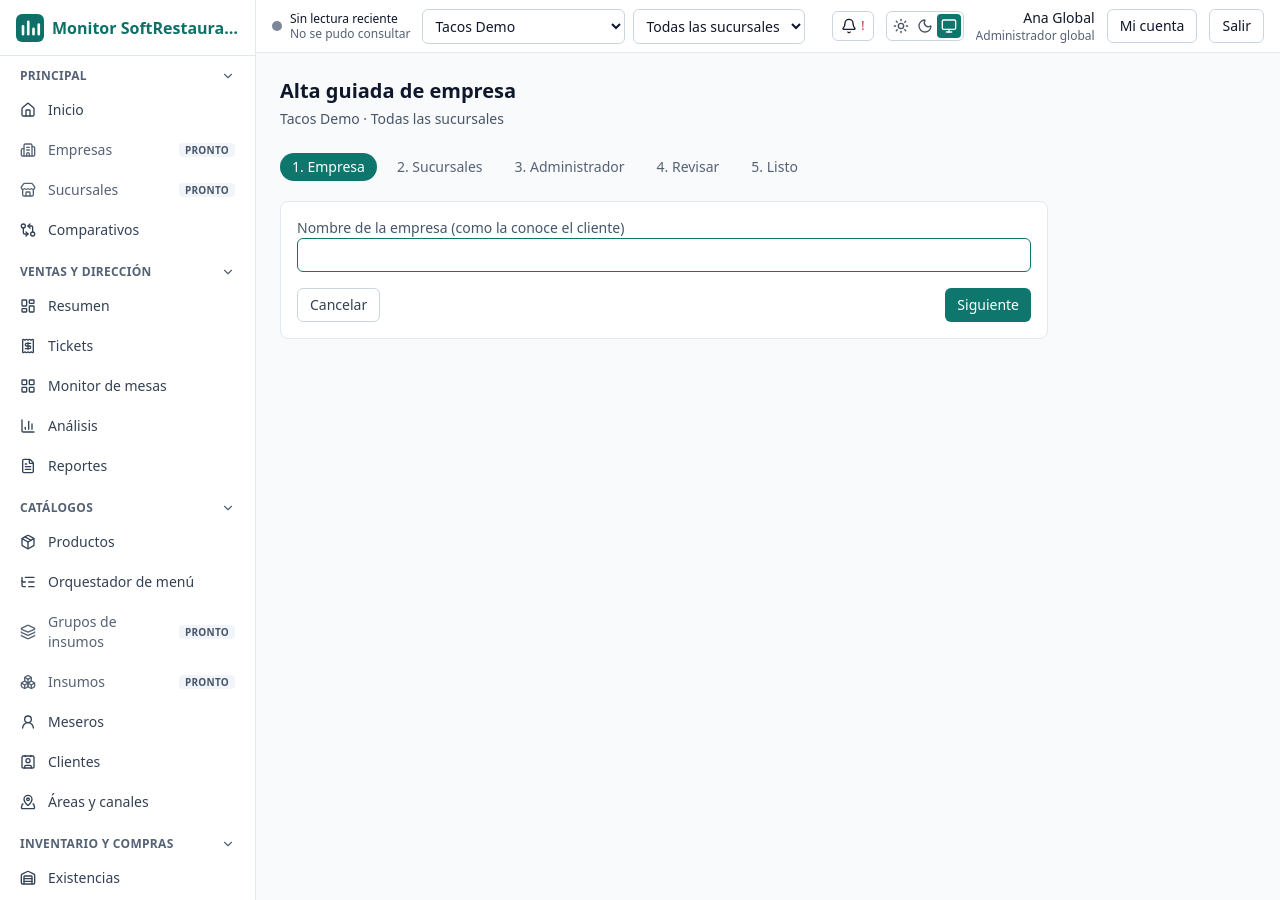
Alta guiada de empresa (F2-147) › un error del api (email duplicado) se muestra y deja volver a intentar
Type "Grupo" into the field labelled "Nombre de la empresa (como la conoce el cliente)" at (664, 255), box [297, 238, 1031, 272]
Click the button "Siguiente" at (988, 305), box [945, 288, 1031, 322]
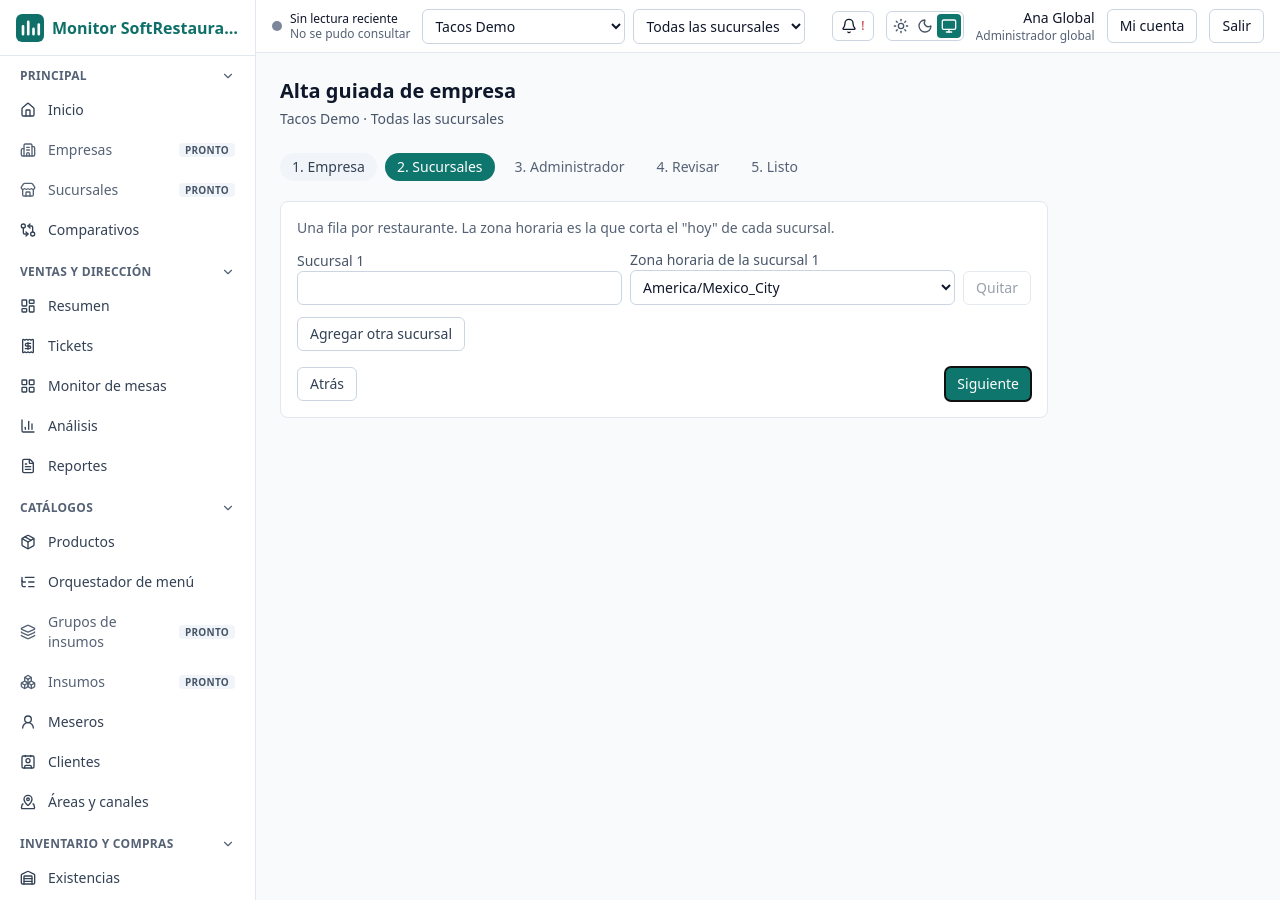
Type "Centro" into the field labelled "Sucursal 1" at (460, 288), box [297, 271, 622, 305]
Click the button "Siguiente" at (988, 384), box [945, 367, 1031, 401]
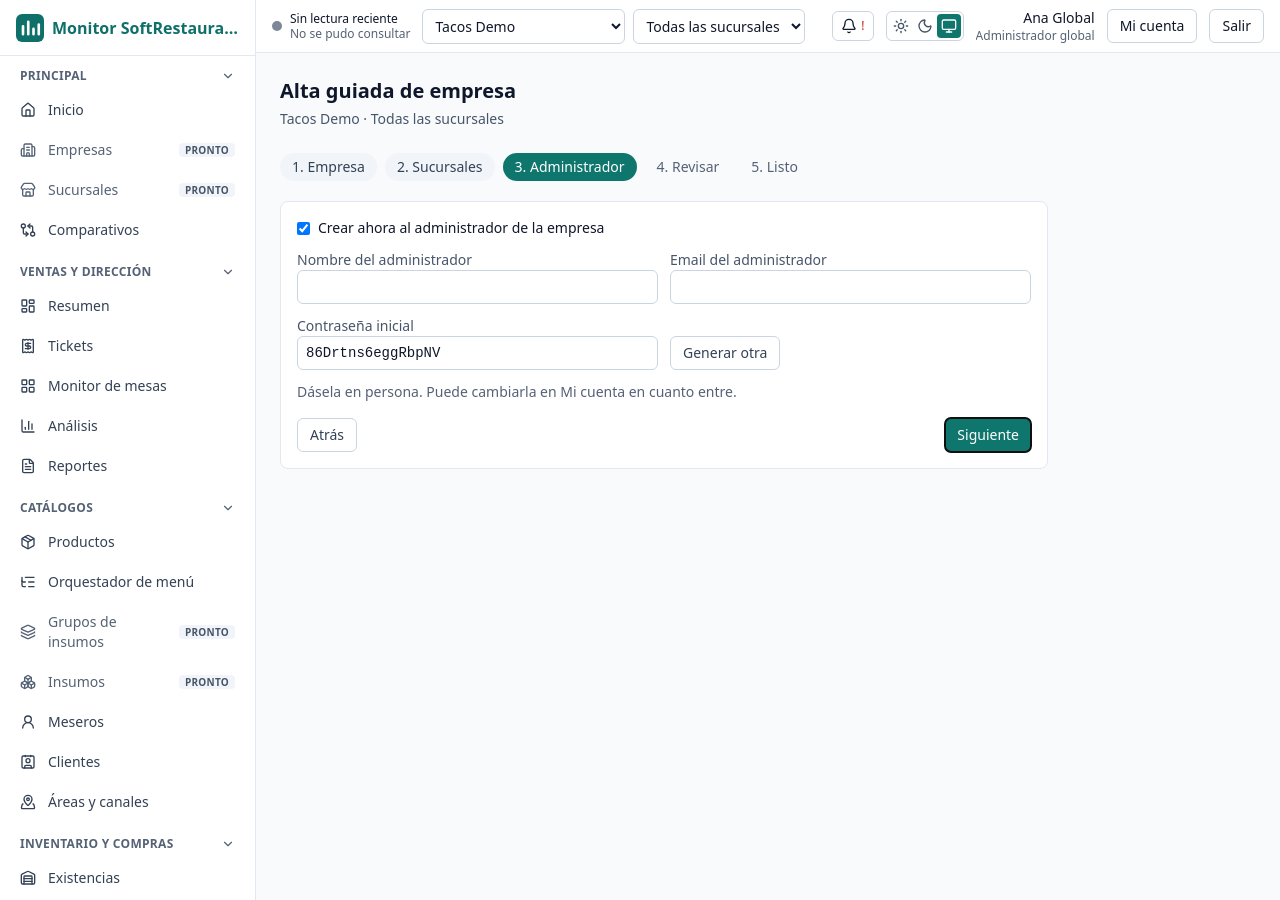
Type "Laura" into the field labelled "Nombre del administrador" at (478, 287), box [297, 270, 658, 304]
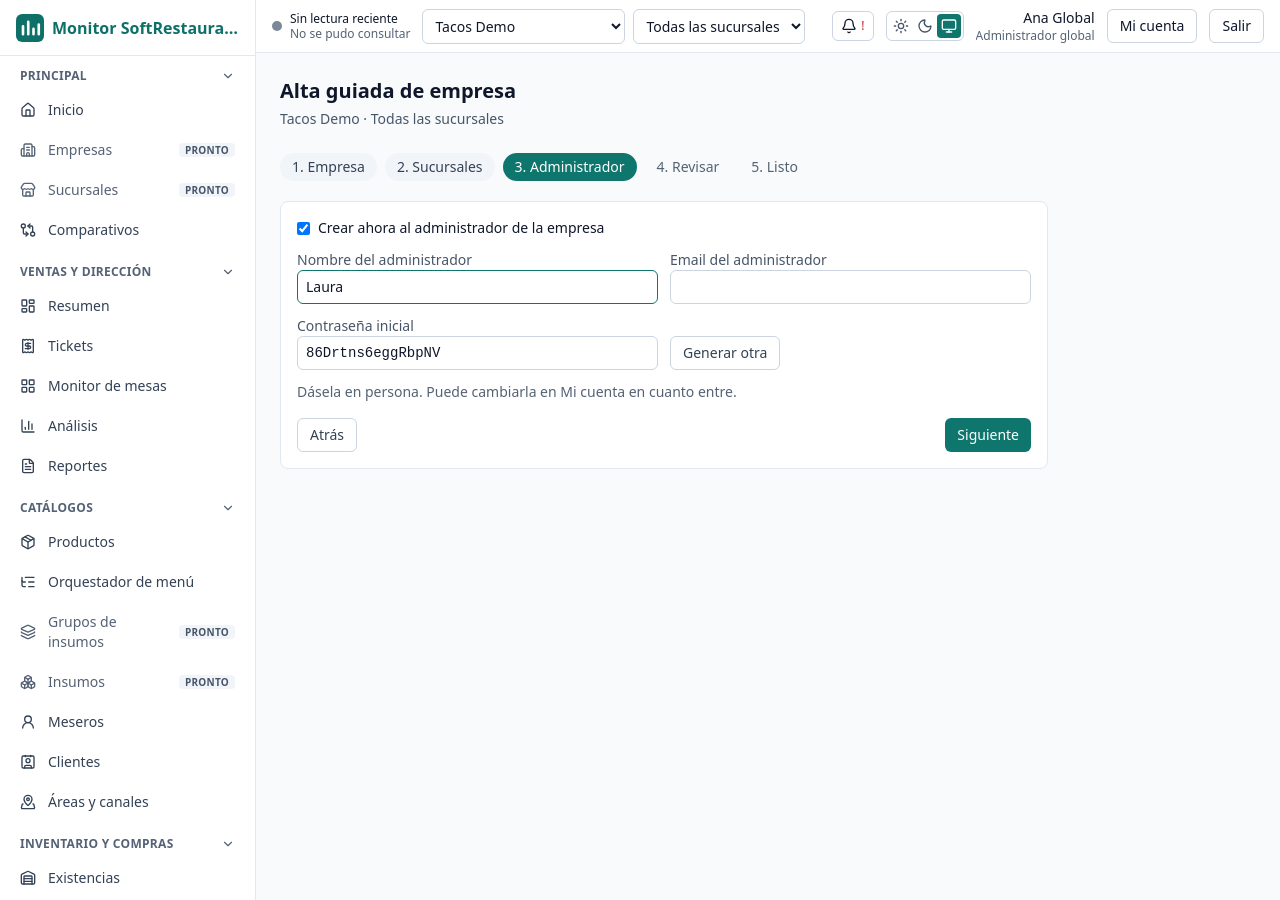
Type "repetido@x.test" into the field labelled "Email del administrador" at (850, 287), box [670, 270, 1031, 304]
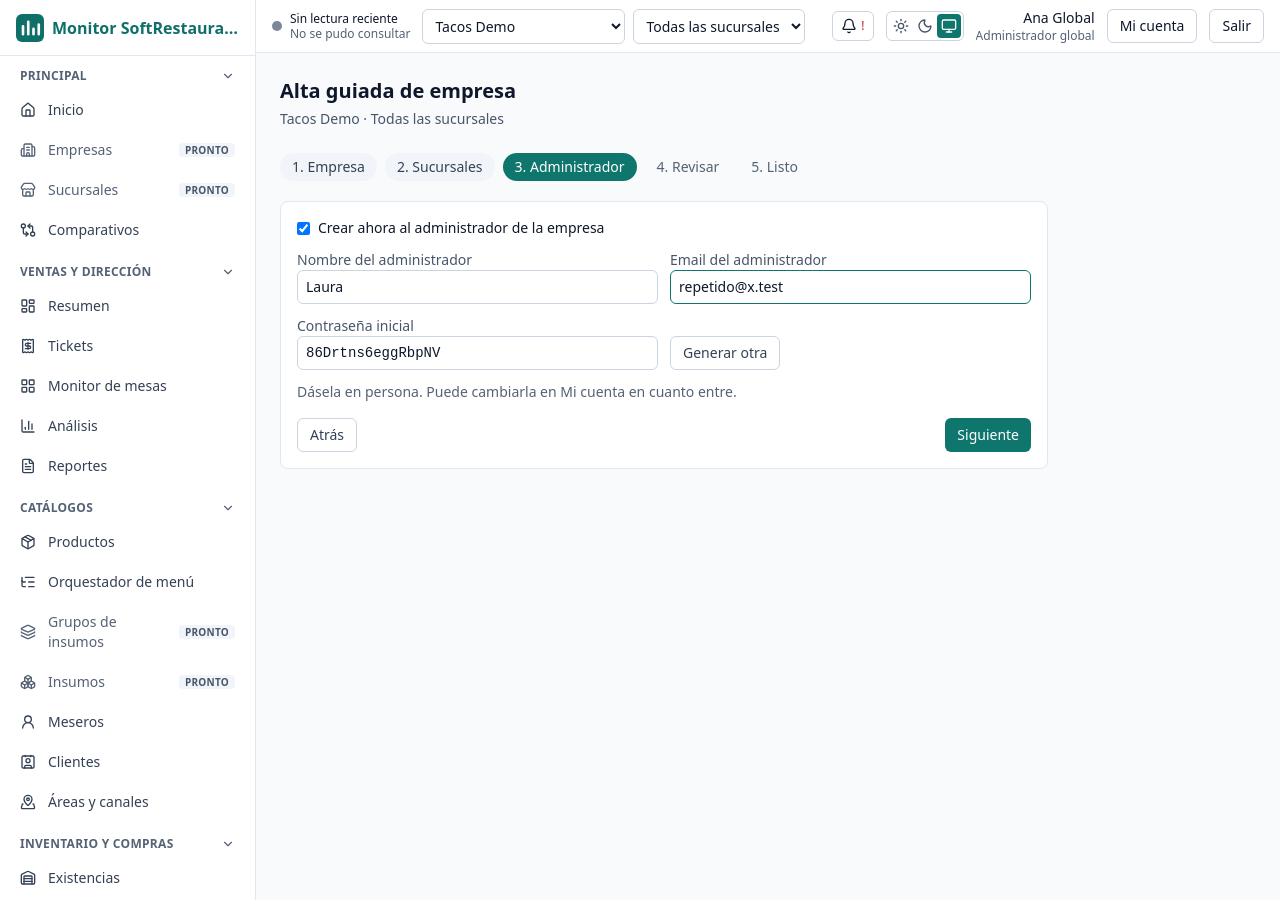
Click the button "Siguiente" at (988, 435), box [945, 418, 1031, 452]
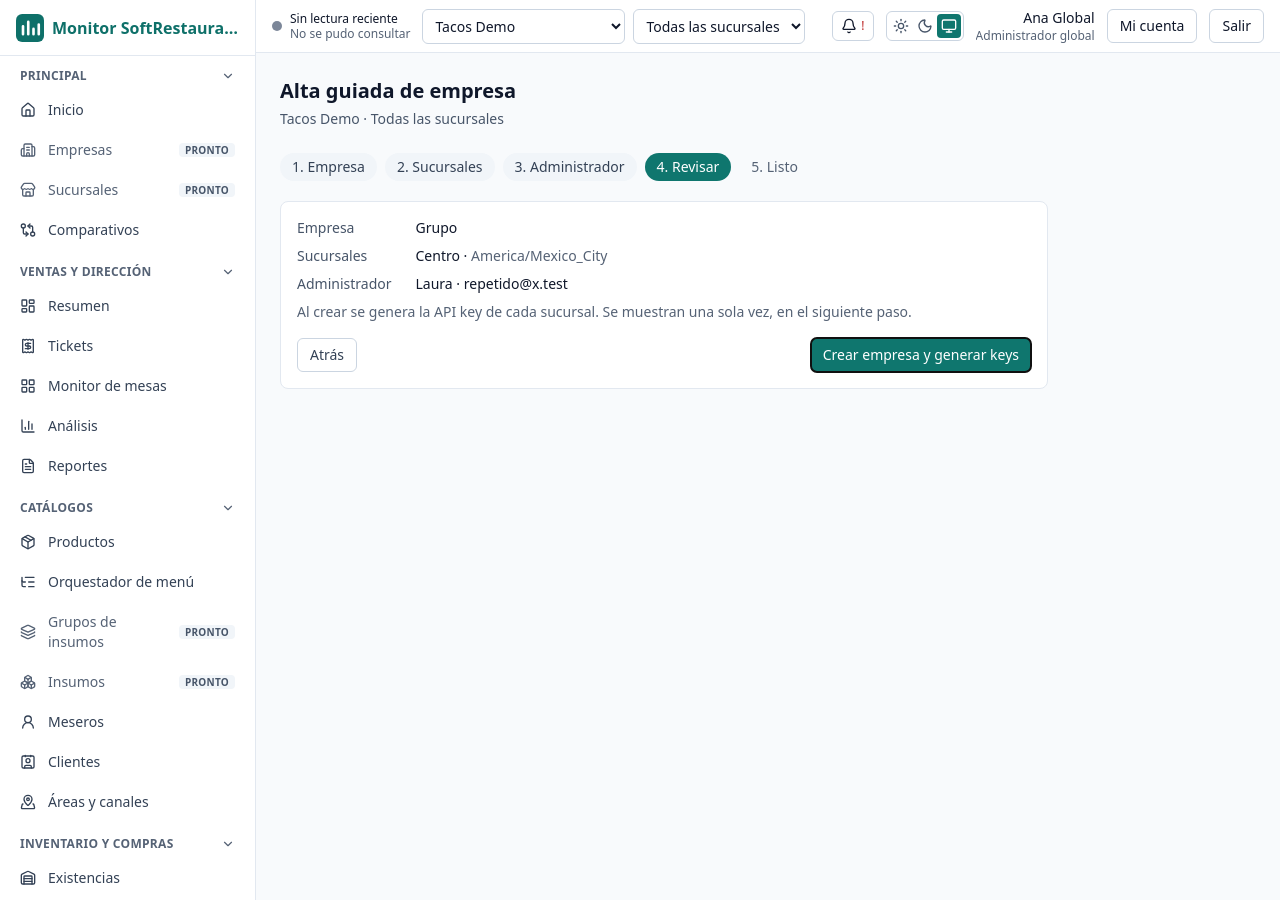
Click the button "Crear empresa y generar keys" at (921, 355), box [811, 338, 1031, 372]
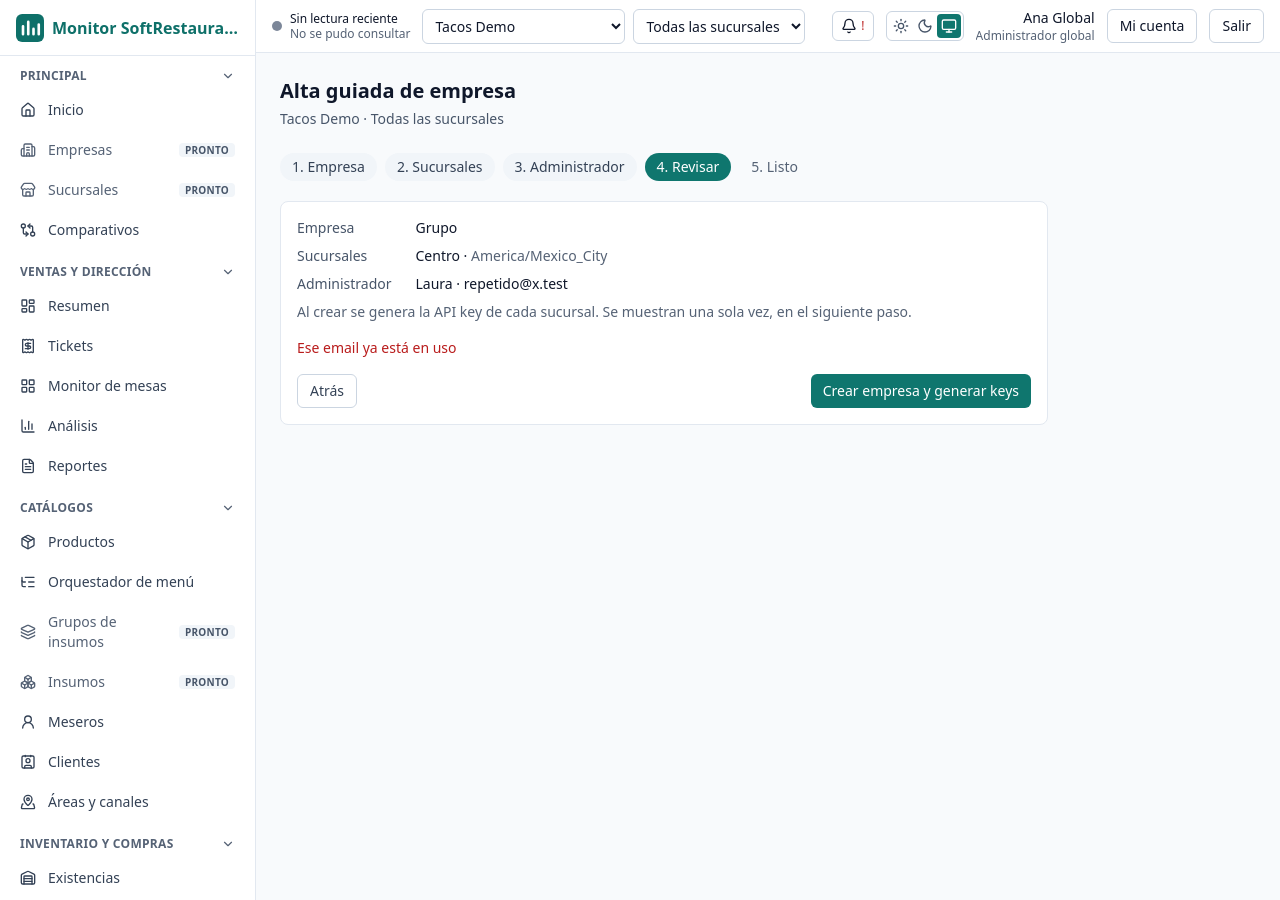
Expected: the button "Crear empresa y generar keys" is enabled, [811, 374, 1031, 408]
Result: the message reads "Ese email ya está en uso" at [297, 338, 456, 357]
